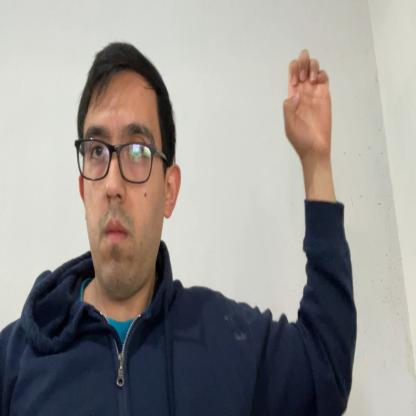E: (282, 48, 332, 158)
